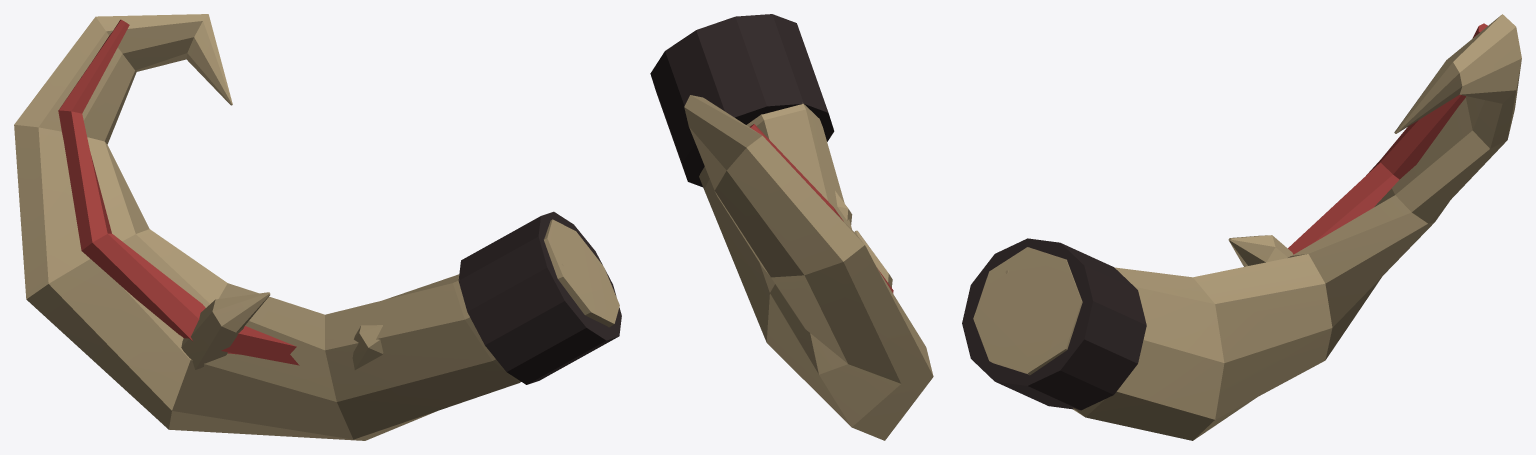
File: HookTip.glb
3 views of the same model, side by side, from view 1: azimuth 30°, elevation 25°; view 2: azimuth 150°, elevation 25°; view 3: azimuth 270°, elevation 25° (orthographic). The views are drawn at different scales.
Parts seen in each view (by area): view 1: HookTip_Projectile; view 2: HookTip_Projectile; view 3: HookTip_Projectile.
Boxes of the visible parts, x1,y1,x2,y2 form: HookTip_Projectile: (14, 14, 621, 440); HookTip_Projectile: (650, 14, 933, 440); HookTip_Projectile: (962, 14, 1521, 440).
Size of the model in its own units: 1.23 by 0.973 by 1.36.
